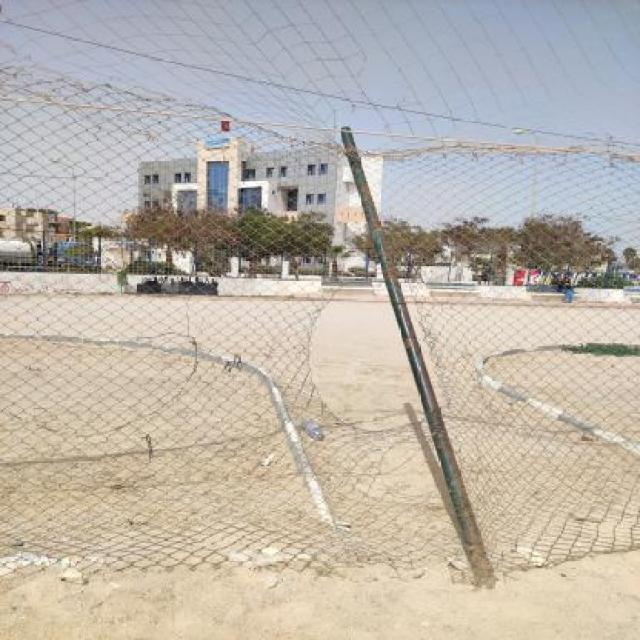fence line: (296, 268, 464, 446)
